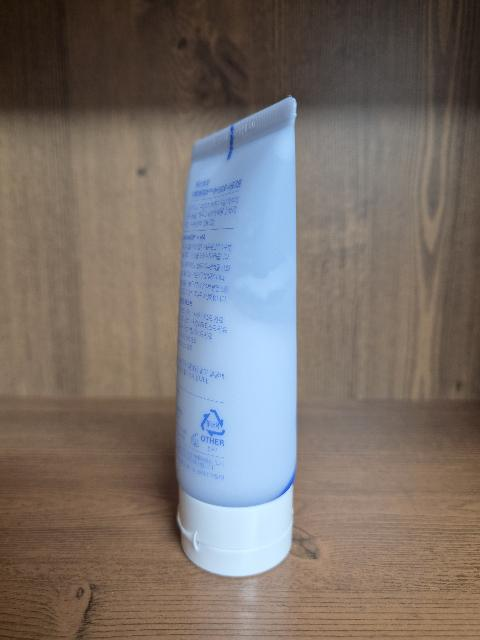handcream: (176, 95, 297, 577)
